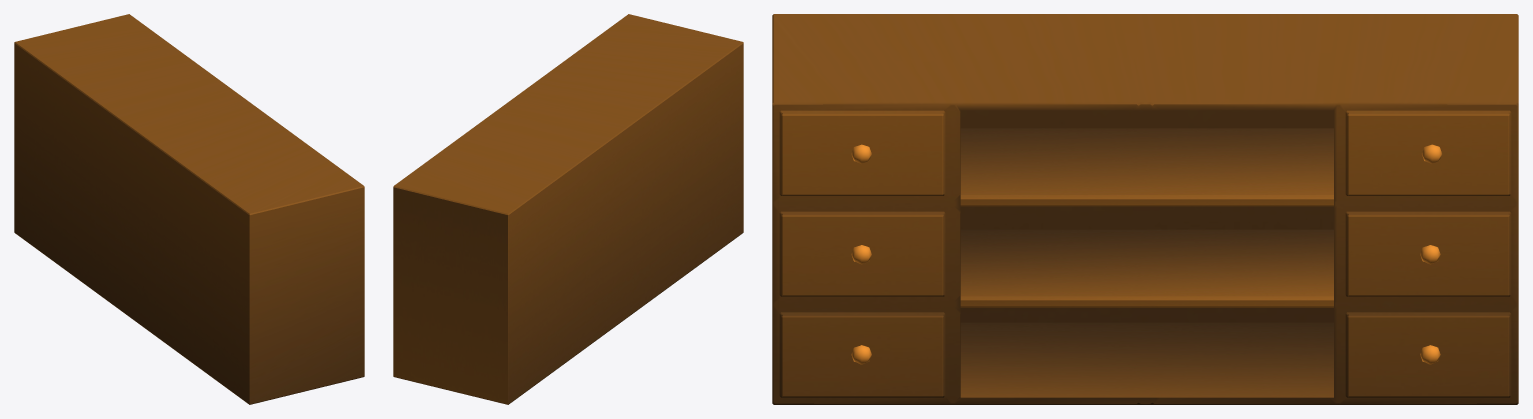
File: TV_Stand.fbx
The picture shows the model from 3 angles, left to right: view 1: azimuth 30°, elevation 25°; view 2: azimuth 150°, elevation 25°; view 3: azimuth 270°, elevation 25°; orthographic projection. The views are drawn at different scales.
Visible parts, largest first — view 1: polySurface5; view 2: polySurface5; view 3: polySurface5.
Part boxes in pixels (x1,y1,x2,y2): polySurface5: [14, 14, 364, 404]; polySurface5: [393, 14, 743, 404]; polySurface5: [772, 14, 1518, 404].
Size of the model in its own units: 128 by 188 by 420.
